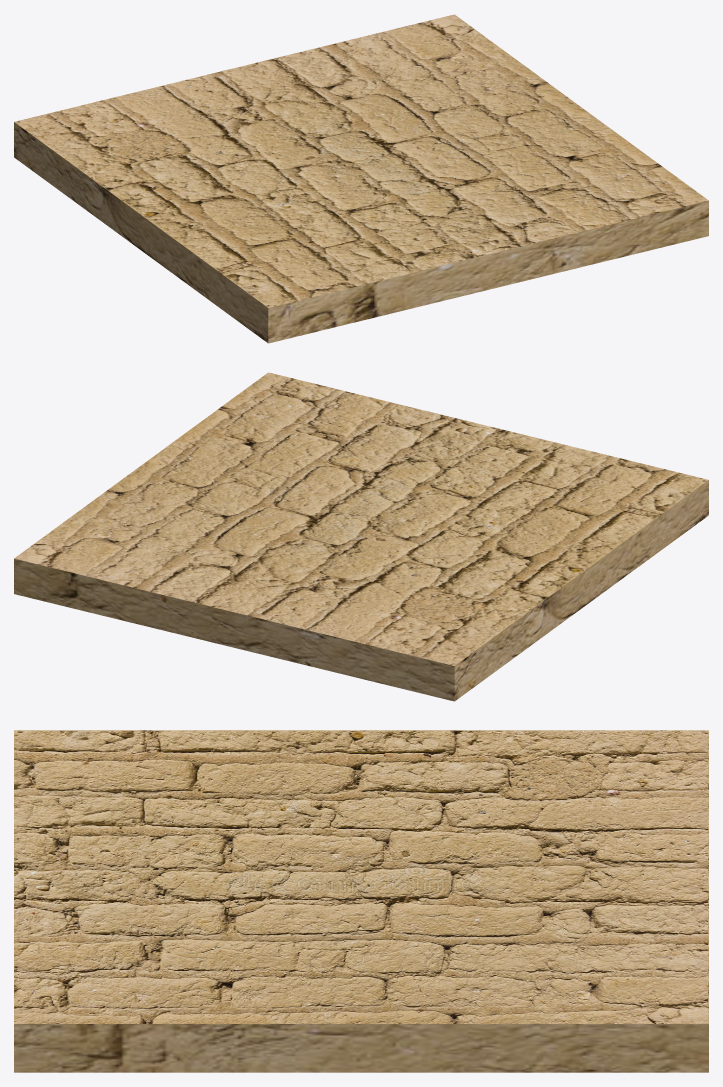
The model's file is Dugeon_Tile_1.obj.
3 renders of one model, top to bottom at view 1: azimuth 30°, elevation 25°; view 2: azimuth 150°, elevation 25°; view 3: azimuth 270°, elevation 25°, orthographic. The views are drawn at different scales.
Parts seen in each view (by area): view 1: pCube41; view 2: pCube41; view 3: pCube41.
Boxes of the visible parts, left/top/right/bottom form: pCube41: left=14, top=14, right=708, bottom=343; pCube41: left=14, top=372, right=708, bottom=701; pCube41: left=14, top=730, right=708, bottom=1072.
Bounding box in the file's own units: 240 × 18.44 × 240.
